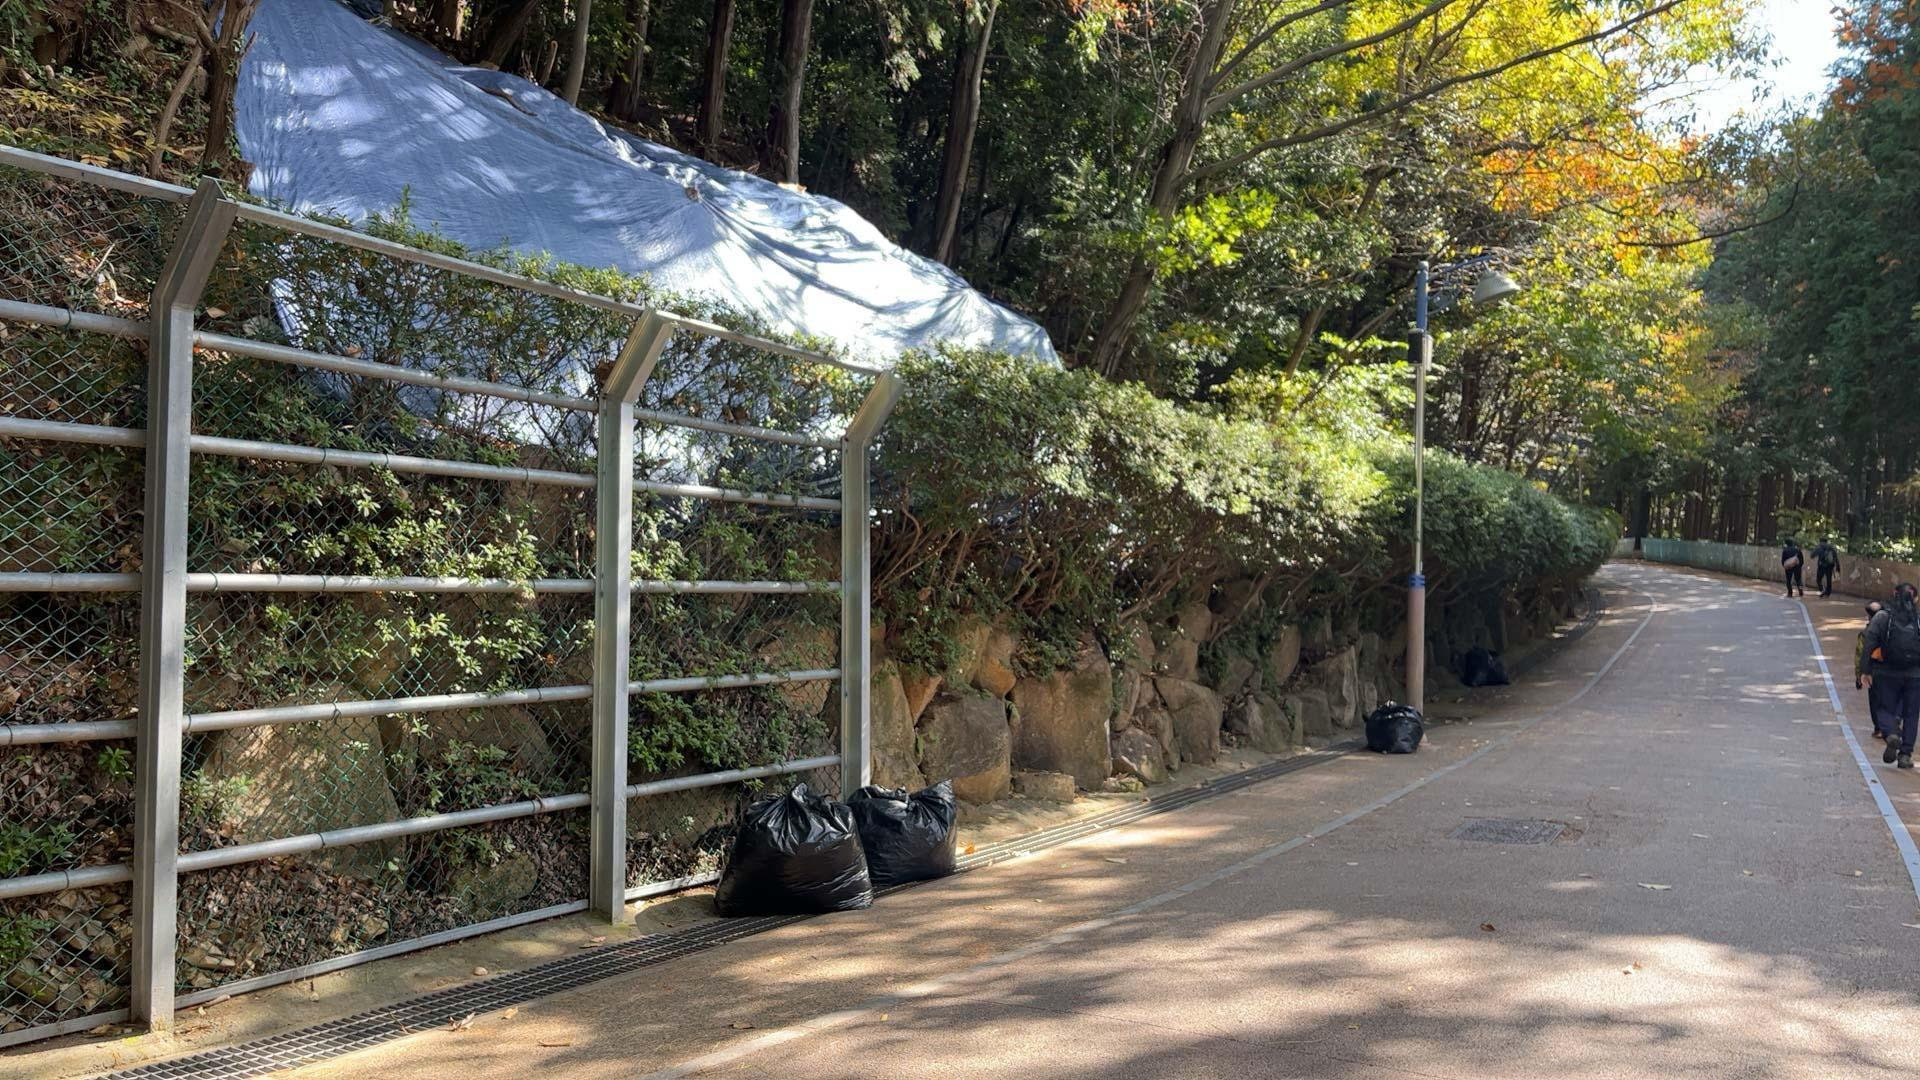black_bag: (704, 775, 881, 918), (847, 775, 963, 887), (1360, 698, 1425, 760)
